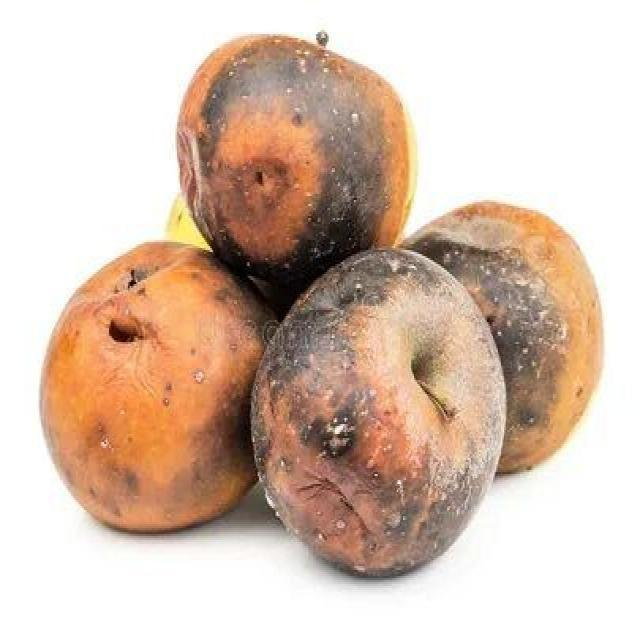Rotten: (252, 258, 494, 546), (162, 40, 410, 284), (48, 244, 254, 518), (414, 188, 592, 490)
